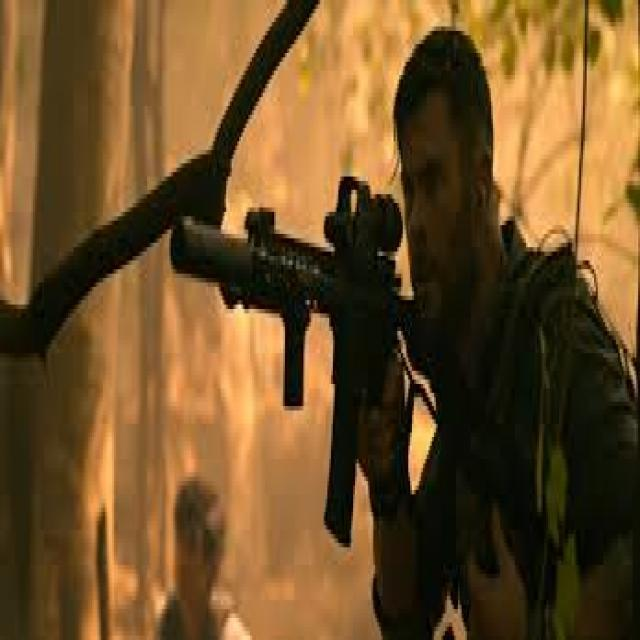weapon: (169, 176, 414, 562)
